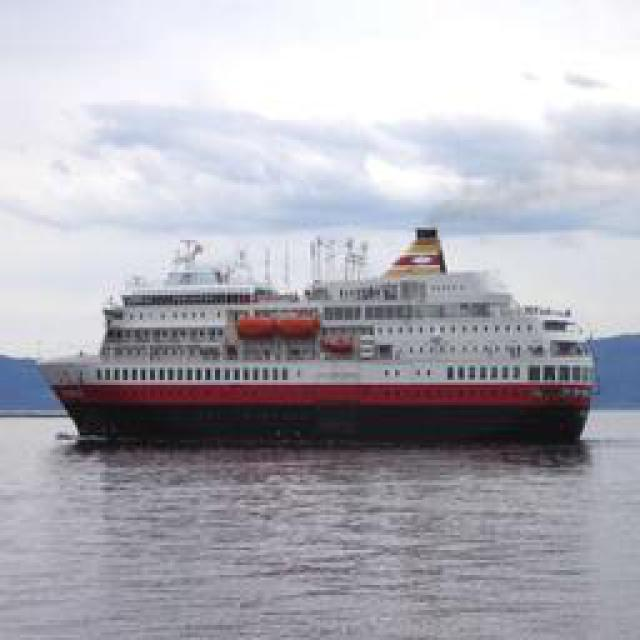Ship: (40, 217, 605, 457)
